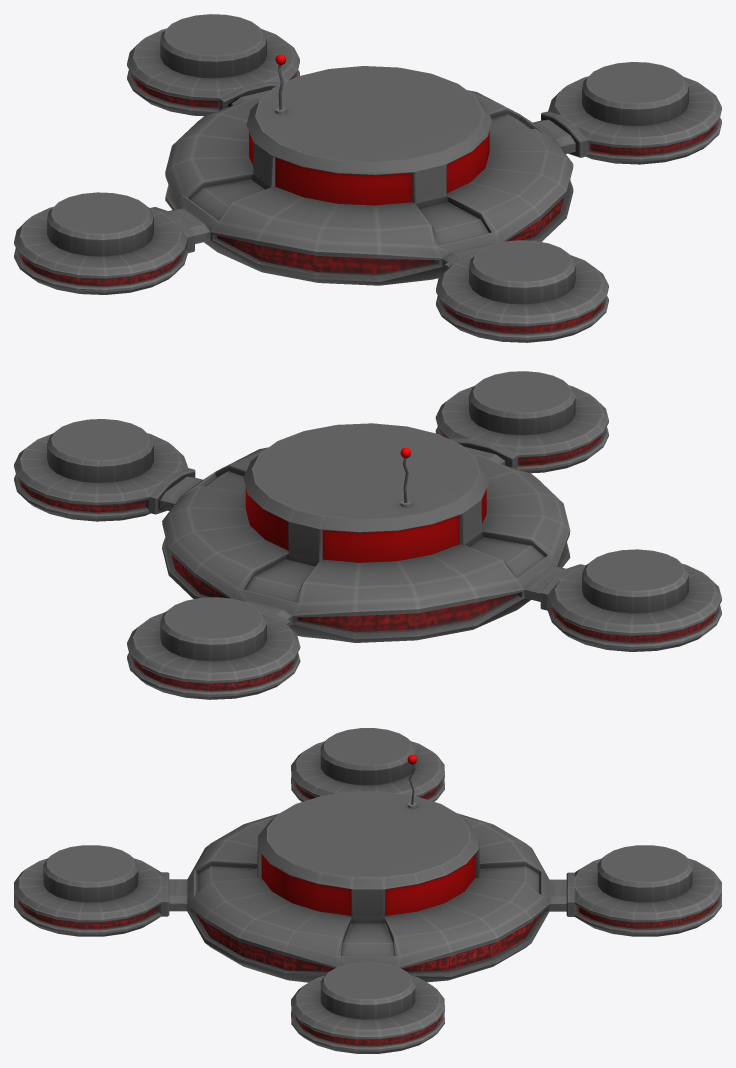
The model's file is ufo.fbx.
The picture shows the model from 3 angles, top to bottom: view 1: azimuth 30°, elevation 25°; view 2: azimuth 150°, elevation 25°; view 3: azimuth 270°, elevation 25°; orthographic projection. The views are drawn at different scales.
Visible parts, largest first — view 1: pasted__pCylinder1; view 2: pasted__pCylinder1; view 3: pasted__pCylinder1.
Boxes of the visible parts, left/top/right/bottom form: pasted__pCylinder1: left=14, top=14, right=721, bottom=342; pasted__pCylinder1: left=14, top=371, right=721, bottom=699; pasted__pCylinder1: left=14, top=728, right=721, bottom=1053.
Bounding box in the file's own units: 9.1 × 2.06 × 9.1.
